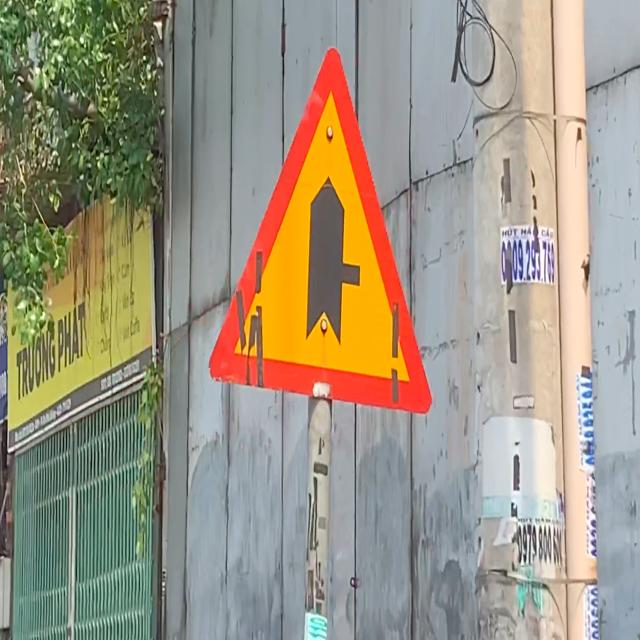Giao voi duong khong uu tien: (205, 39, 434, 417)
